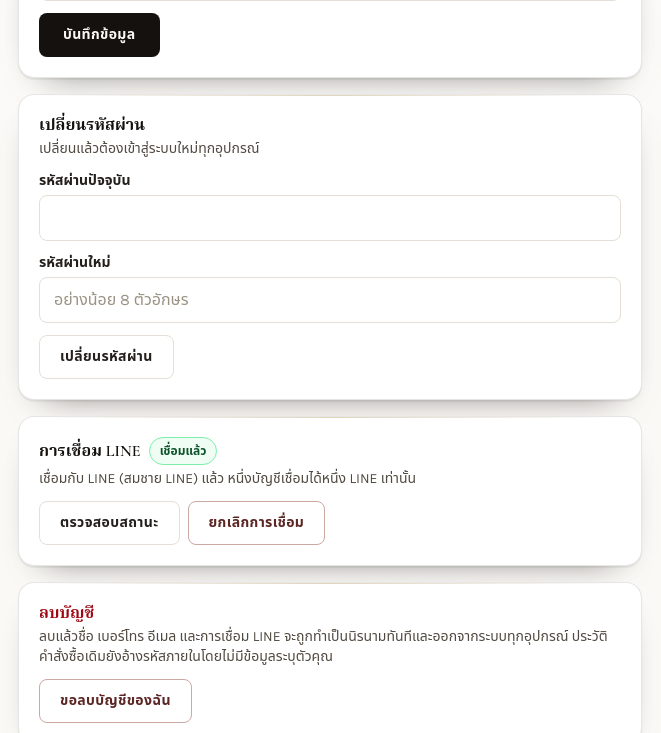
Scenario: หน้าโปรไฟล์ลูกค้า (ภาษาไทย) › linked แล้วกดยกเลิกการเชื่อมได้
(page scrolled)
Expected: the text "เชื่อมแล้ว" is shown, [149,436,218,464]
Step 1. Click the button "ยกเลิกการเชื่อม" → {"x": 256, "y": 522}, box [188,500,325,544]
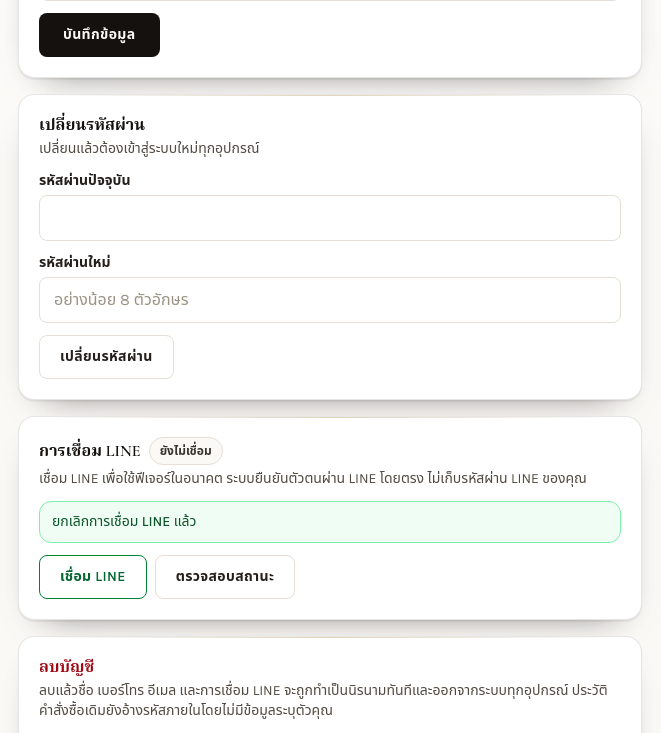
Now the text "ยกเลิกการเชื่อม LINE แล้ว" is shown, box [39,500,621,542]
